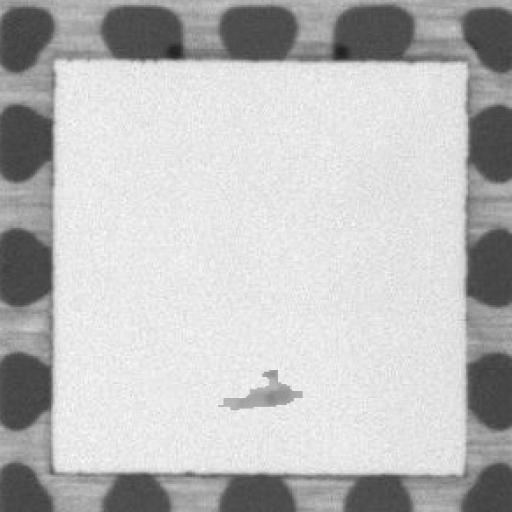DIE_INK: (220, 361, 294, 407)
